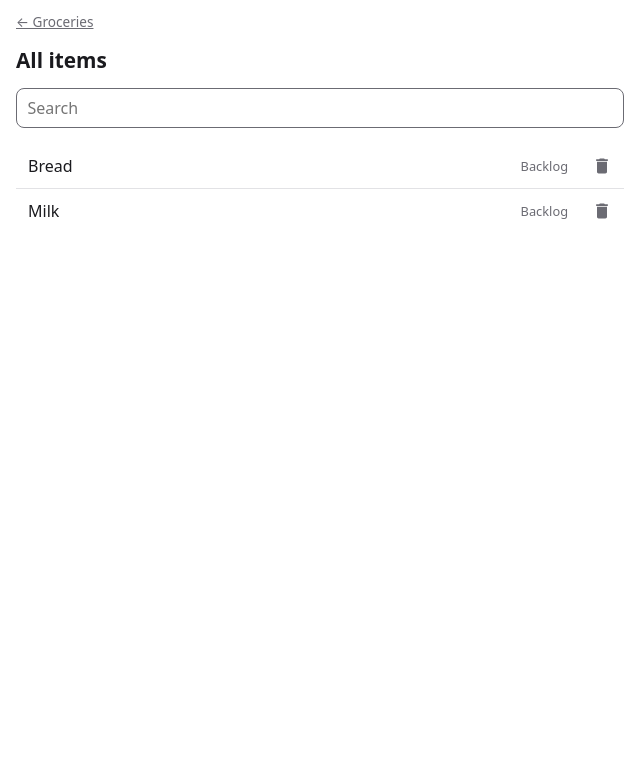
Scenario: RegistryPage rows, as on Android (T-342) › deletes a row at once and offers it back
Click the button named "Delete Milk" at (602, 211), box [580,189,624,233]
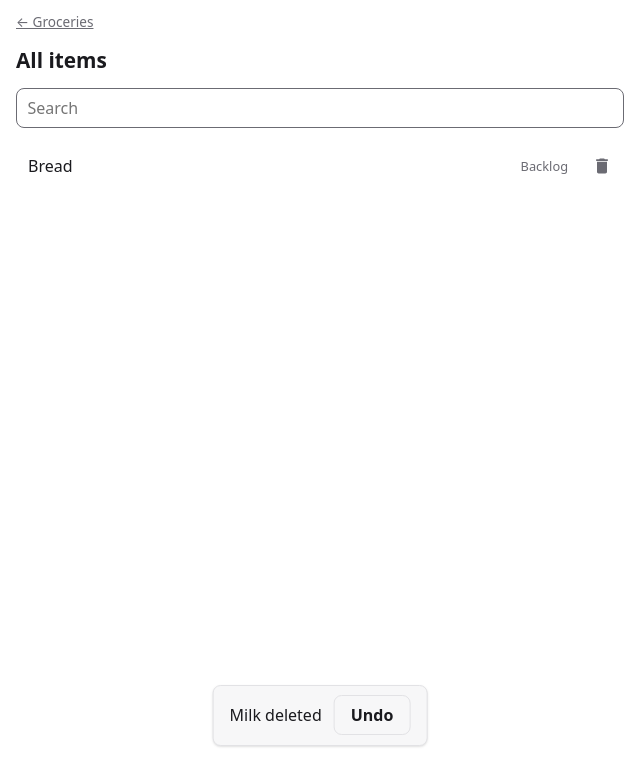
Expected: the message shows "Milk deleted", [230,704,322,726]
Click the button "Undo" at (372, 715), box [334,695,410,735]
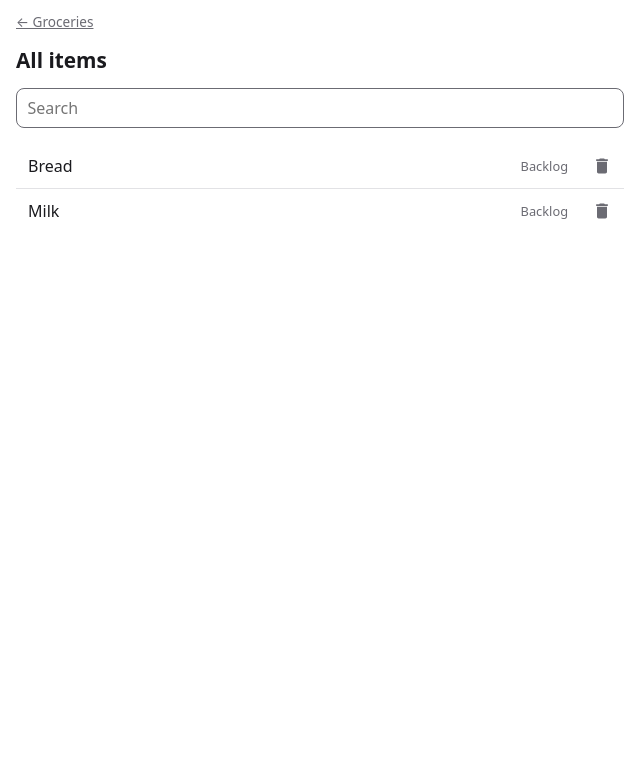
Expected: the button named "Delete Milk" is shown, [580,189,624,233]
Expected: the message "Milk deleted Undo" is gone
